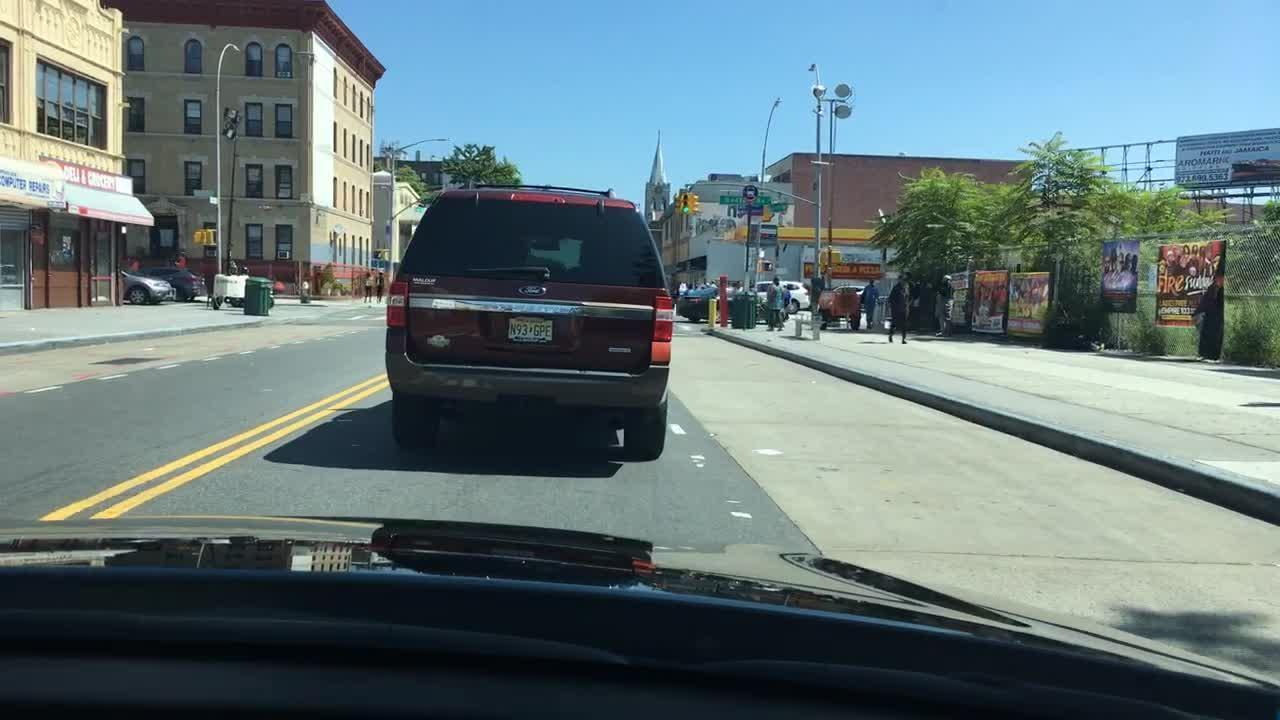ford: (517, 276, 554, 302)
